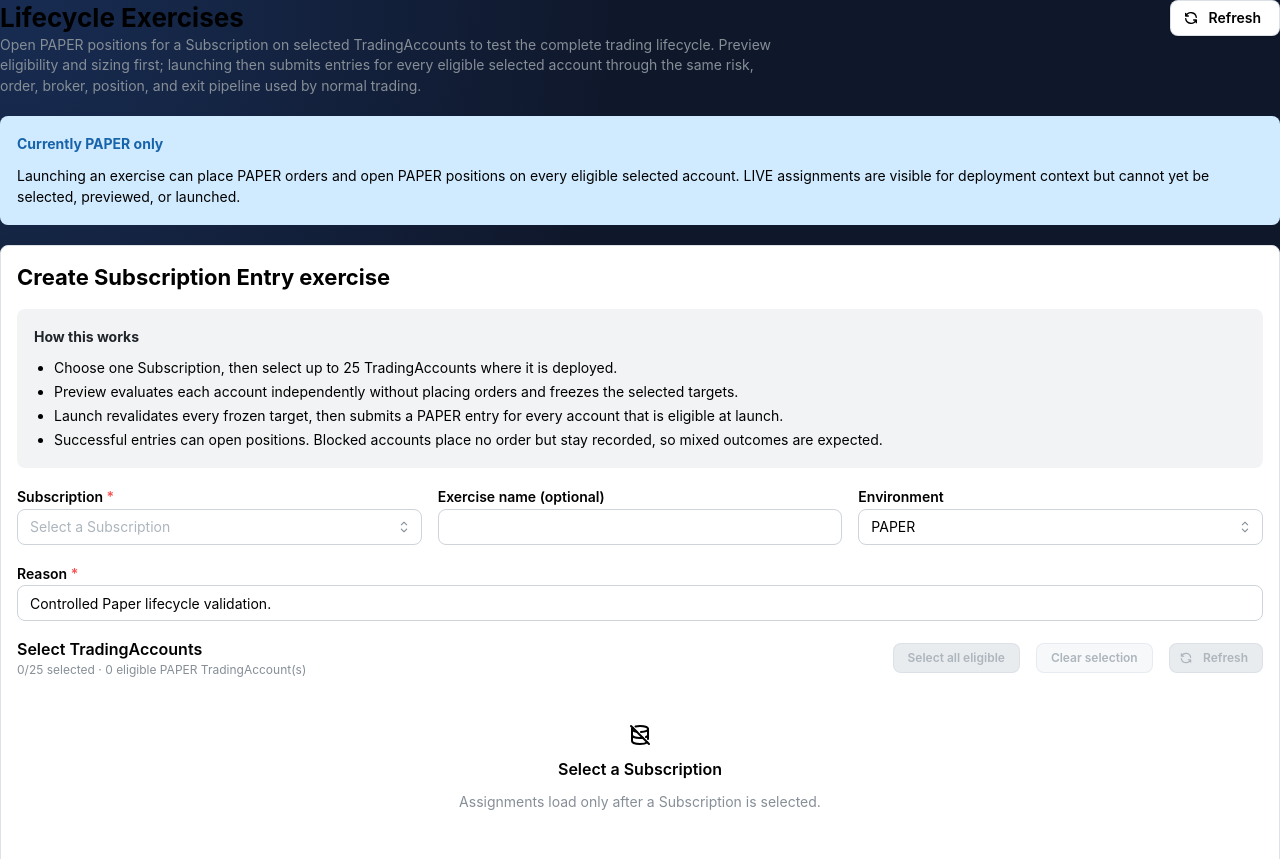
Scenario: Lifecycle Exercises creation › replaces launch with a fresh-preview action after expiration
This screenshot has width=1280, height=859.
Click the dropdown with placeholder "Select a Subscription" at (219, 526), box [17,508,422,544]
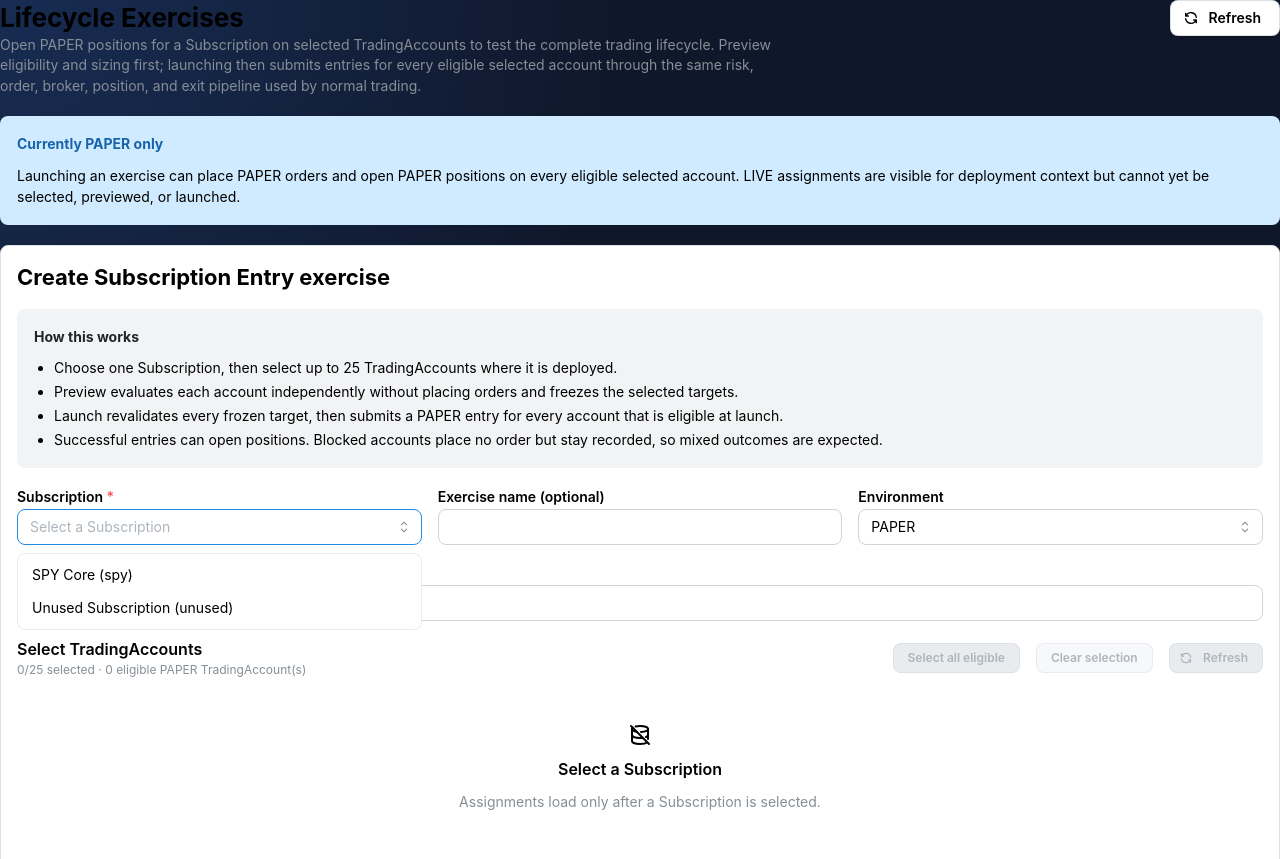
Click the option "SPY Core (spy)" at (82, 574), box [32,566,133,582]
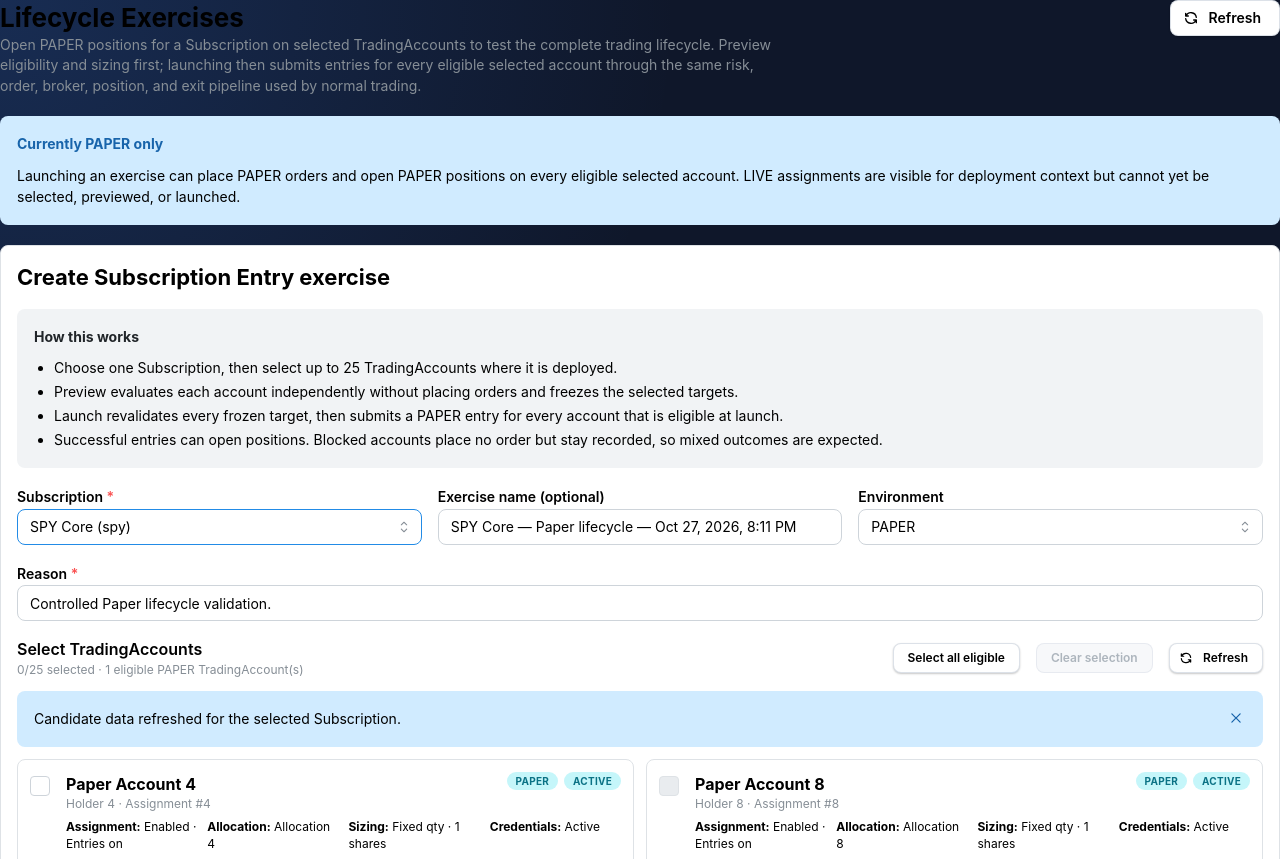
Click the checkbox named "Select Paper Account 4 assignment 4" at (40, 786), box [30,776,50,796]
(page scrolled)
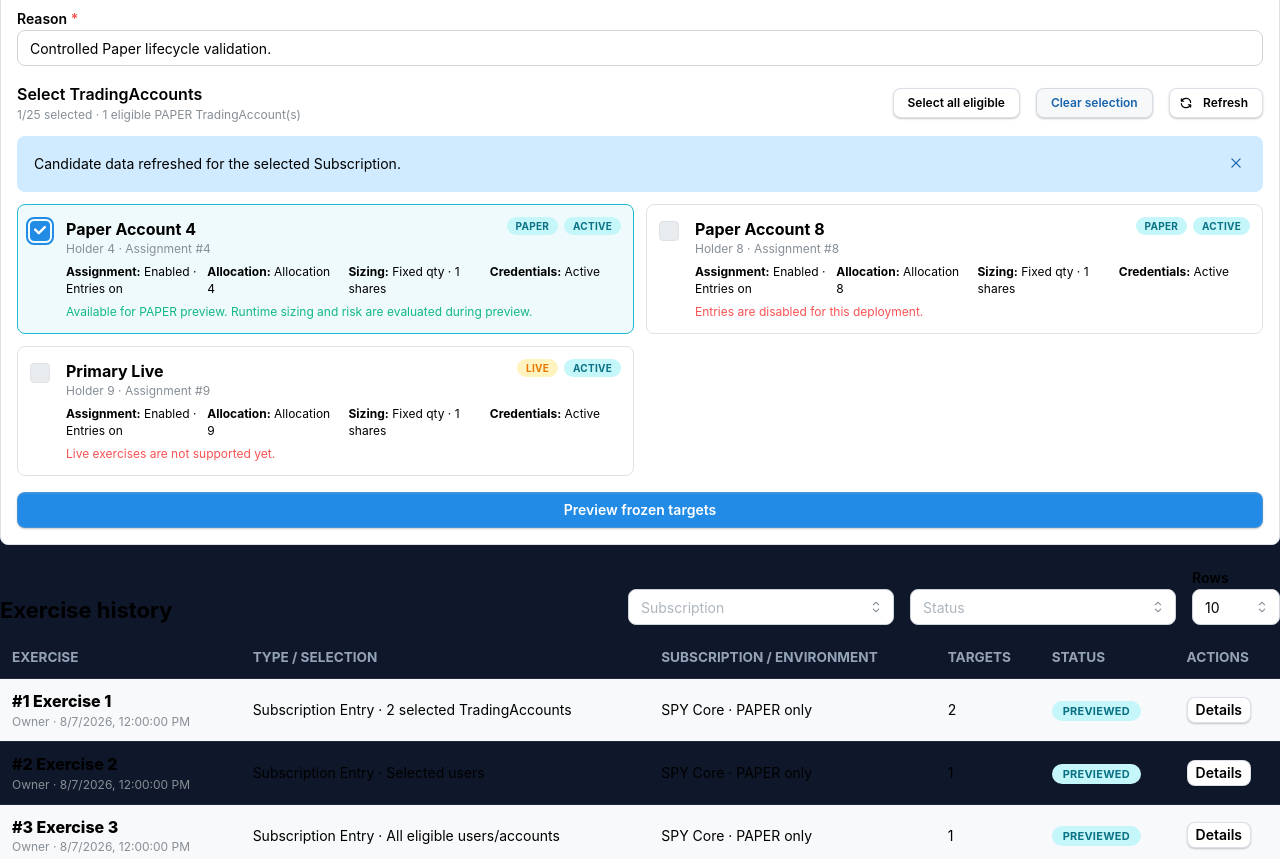
Click the button "Preview frozen targets" at (640, 510), box [17,492,1263,528]
(page scrolled)
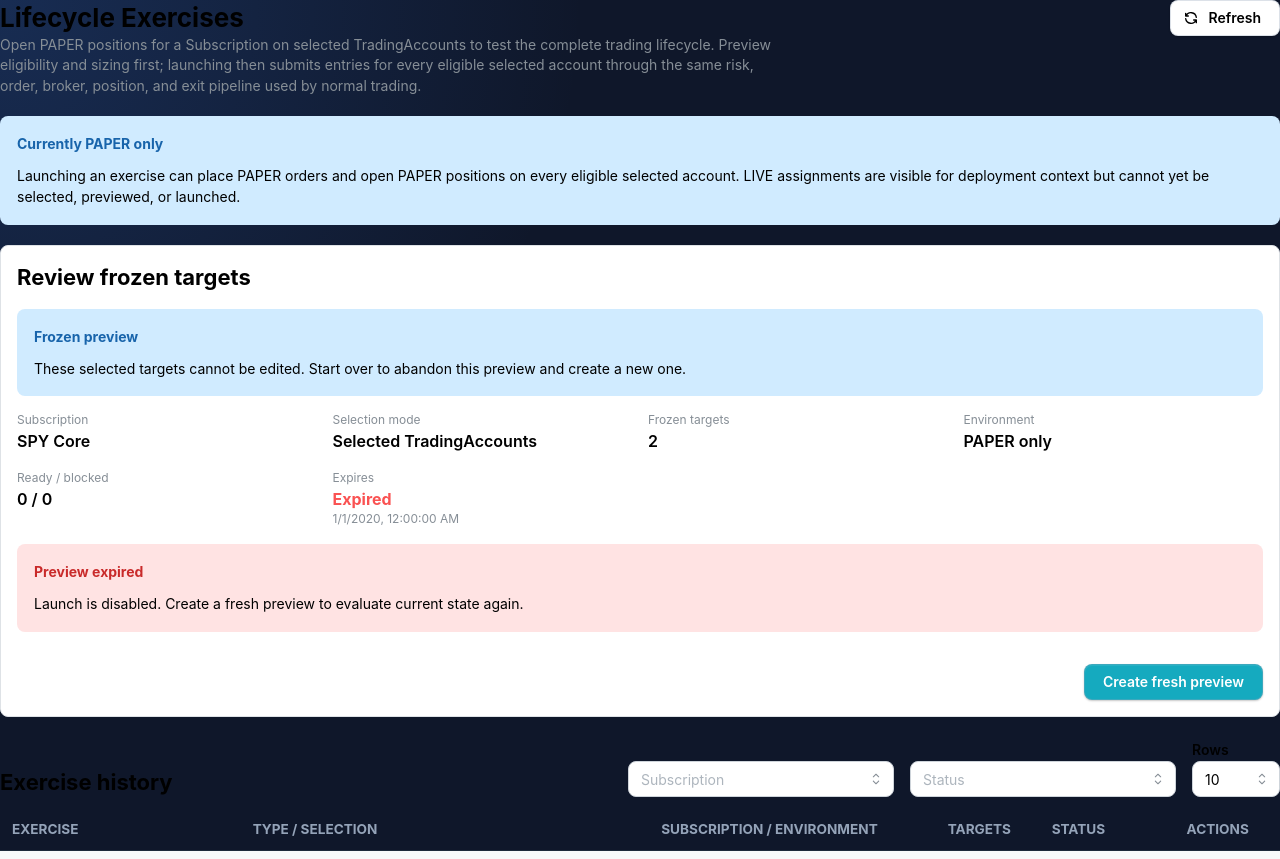
Check: the text "Expired" is shown, box [332,489,392,509]
Click the button "Create fresh preview" at (1173, 682), box [1084,664,1263,700]
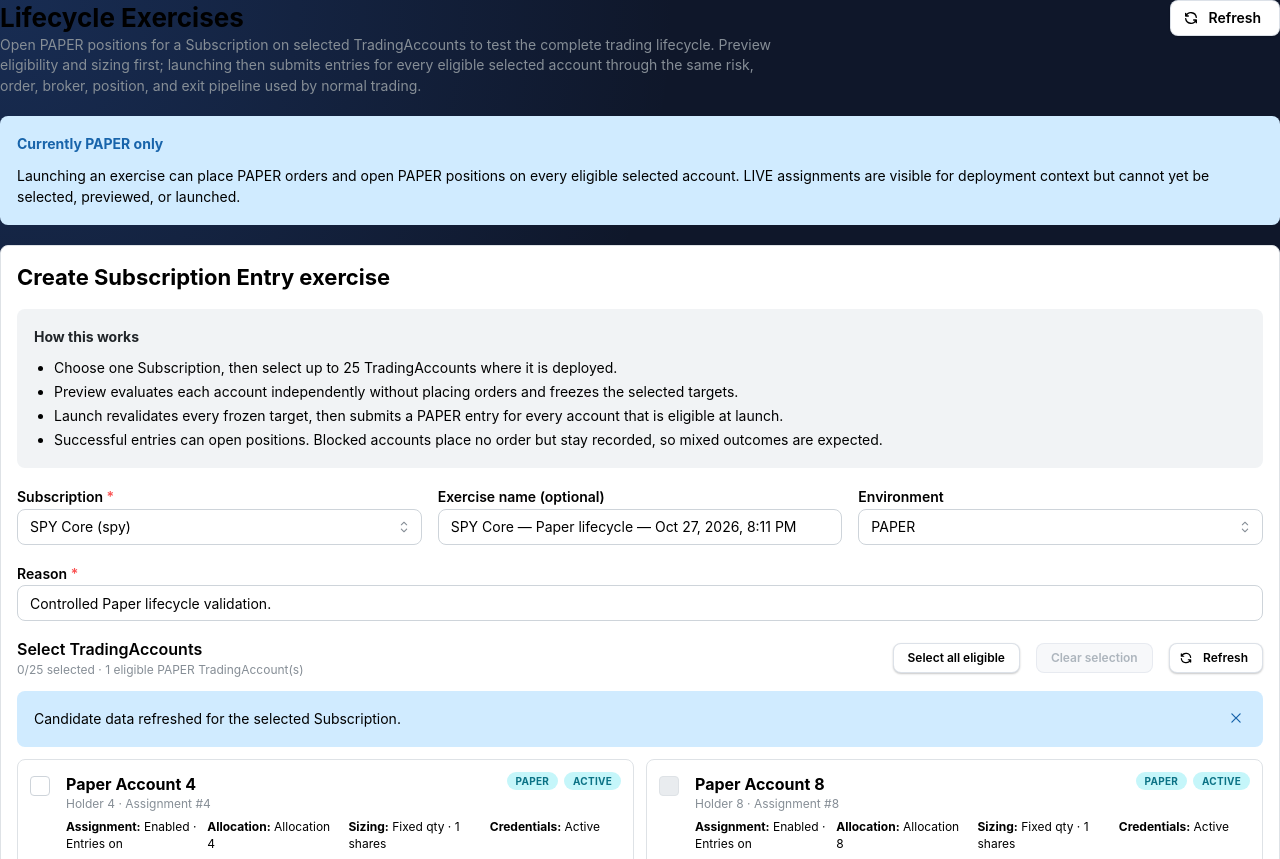
Check: the heading "Create Subscription Entry exercise" is shown, box [17,264,390,290]
